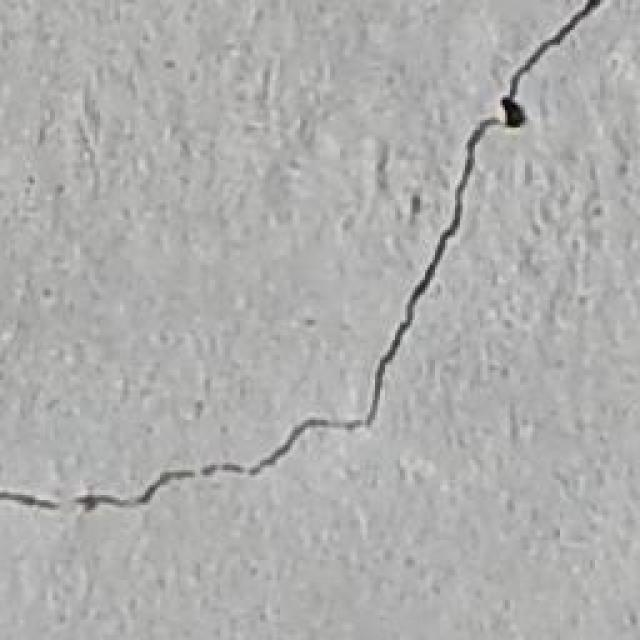concrete-crack: (1, 0, 612, 519)
